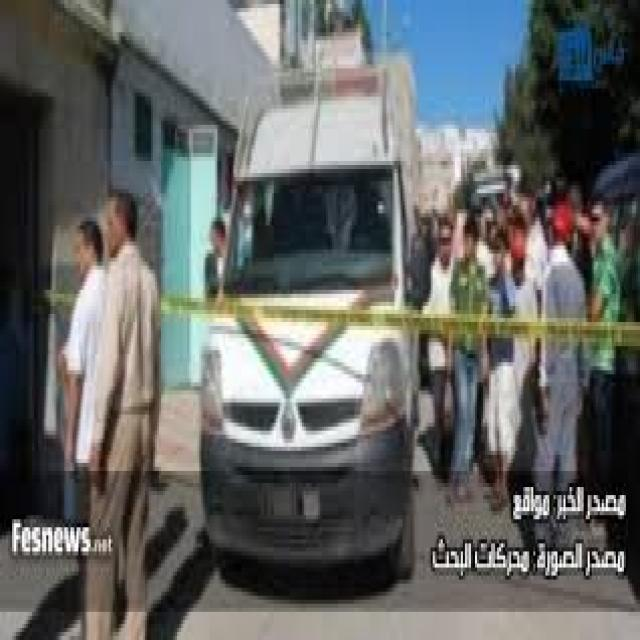police: (198, 77, 414, 568)
